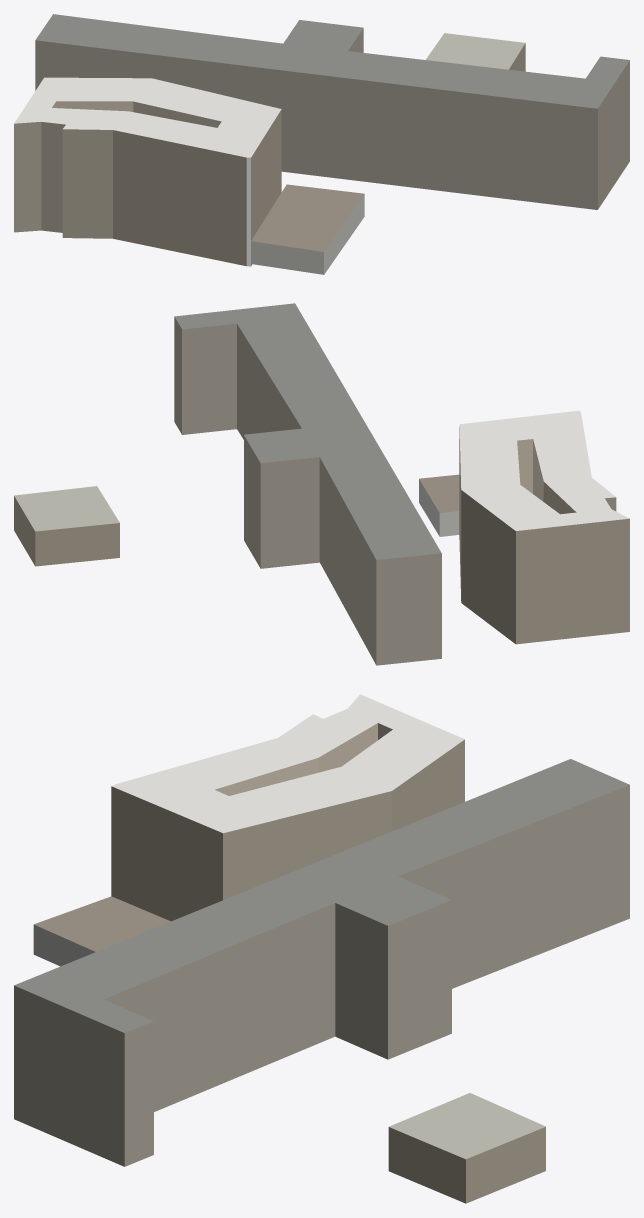
3 views of the same model, one above another, from view 1: azimuth 30°, elevation 25°; view 2: azimuth 150°, elevation 25°; view 3: azimuth 270°, elevation 25° (orthographic). The views are drawn at different scales.
Visible parts, largest first — view 1: tuile; view 2: tuile; view 3: tuile.
Boxes of the visible parts, left/top/right/bottom form: tuile: left=14, top=14, right=629, bottom=274; tuile: left=14, top=303, right=629, bottom=665; tuile: left=14, top=694, right=629, bottom=1203.
Size of the model in its own units: 185 by 37.43 by 135.
